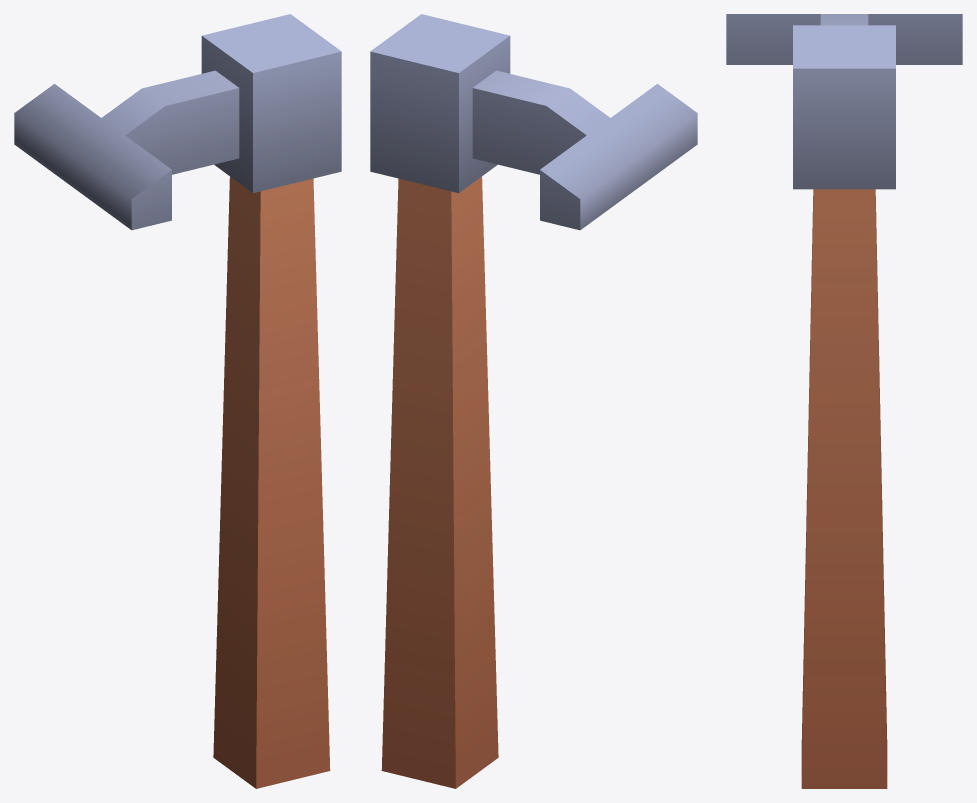
Rendered from kenney-survival-tool-hoe.glb.
3 views of the same model, side by side, from view 1: azimuth 30°, elevation 25°; view 2: azimuth 150°, elevation 25°; view 3: azimuth 270°, elevation 25° (orthographic).
Visible parts, largest first — view 1: tool-hoe; view 2: tool-hoe; view 3: tool-hoe.
Boxes of the visible parts, box(x1,y1,x2,y2) form: tool-hoe: box(14, 14, 341, 788); tool-hoe: box(370, 14, 697, 788); tool-hoe: box(726, 14, 962, 788).
Bounding box in the file's own units: 0.0848 × 0.24 × 0.0709.
Materials: 1 (1 with a texture image).
